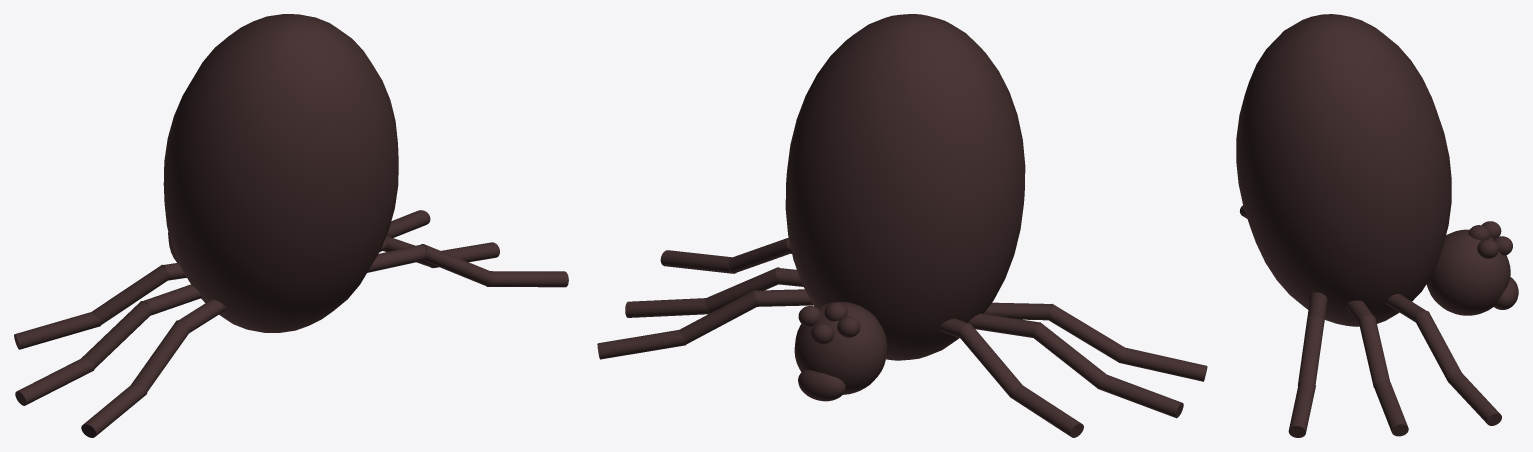
Rendered from spidercolor.fbx.
3 views of the same model, side by side, from view 1: azimuth 30°, elevation 25°; view 2: azimuth 150°, elevation 25°; view 3: azimuth 270°, elevation 25° (orthographic). The views are drawn at different scales.
Visible parts, largest first — view 1: pSphere2, pasted__pasted__pasted__pCylinder1 (×2), pasted__pasted__pasted__pasted__pCylinder1 (×2), pasted__pasted__pasted__pasted__pasted__pCylinder1, pasted__pasted__pCylinder1; view 2: pSphere2, pasted__pasted__pasted__pCylinder1 (×2), pasted__pasted__pasted__pasted__pCylinder1 (×2), pSphere1, pasted__pasted__pasted__pasted__pasted__pCylinder1, pasted__pasted__pCylinder1, pasted__pSphere1; view 3: pSphere2, pSphere1, pasted__pasted__pCylinder1, pasted__pasted__pasted__pCylinder1, pasted__pasted__pasted__pasted__pCylinder1, pasted__pSphere1, pasted__pasted__pasted__pSphere1.
Part boxes in pixels (bbox=[...]): pSphere2: bbox=[163, 14, 398, 332]; pasted__pasted__pasted__pCylinder1 (×2): bbox=[81, 244, 568, 437]; pasted__pasted__pasted__pasted__pCylinder1 (×2): bbox=[14, 236, 499, 349]; pasted__pasted__pasted__pasted__pasted__pCylinder1: bbox=[15, 284, 201, 405]; pasted__pasted__pCylinder1: bbox=[386, 210, 430, 237]; pSphere2: bbox=[785, 14, 1025, 360]; pasted__pasted__pasted__pCylinder1 (×2): bbox=[660, 237, 1207, 381]; pasted__pasted__pasted__pasted__pCylinder1 (×2): bbox=[625, 267, 1083, 437]; pSphere1: bbox=[794, 301, 887, 394]; pasted__pasted__pasted__pasted__pasted__pCylinder1: bbox=[968, 313, 1183, 418]; pasted__pasted__pCylinder1: bbox=[597, 289, 812, 359]; pasted__pSphere1: bbox=[798, 369, 845, 401]; pSphere2: bbox=[1236, 14, 1451, 326]; pSphere1: bbox=[1426, 229, 1510, 315]; pasted__pasted__pCylinder1: bbox=[1386, 294, 1501, 425]; pasted__pasted__pasted__pCylinder1: bbox=[1288, 292, 1327, 437]; pasted__pasted__pasted__pasted__pCylinder1: bbox=[1346, 300, 1408, 436]; pasted__pSphere1: bbox=[1494, 277, 1518, 309]; pasted__pasted__pasted__pSphere1: bbox=[1477, 239, 1498, 258].
Bounding box in the file's own units: 8.73 × 5.15 × 4.3.
